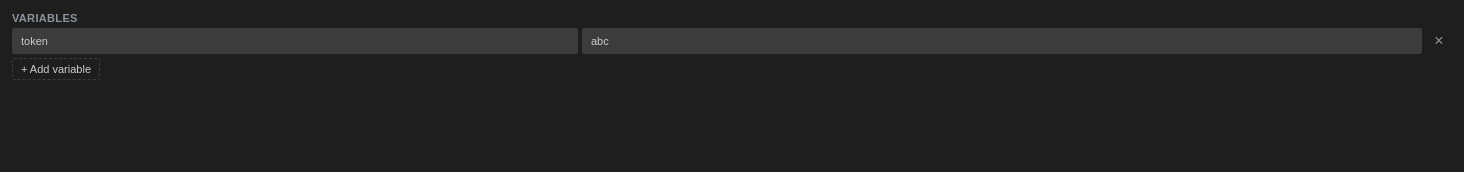
Test: VariablesEditor › renaming a variable › says so when a rename leaves references dangling
Replace the text in the field with placeholder "name" with "tok" at point(295, 41), box [12,28,578,54]
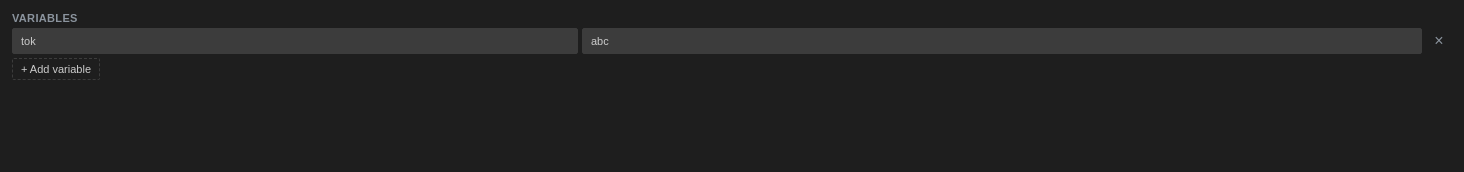
Leave the field with placeholder "name", box [12,28,578,54]
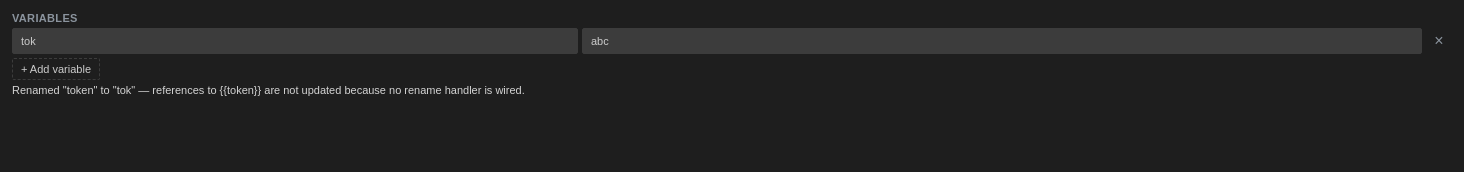
Result: the text with test id "rename-note" shows "references to {{token}} are not updated" at [12,84,525,96]
